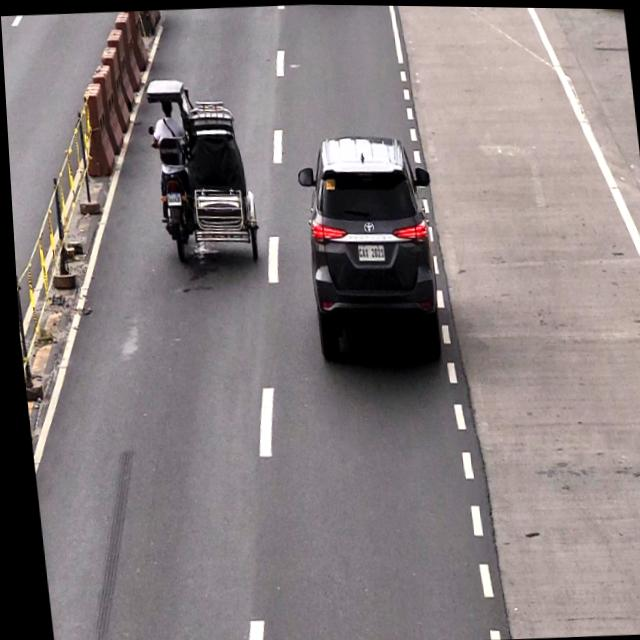Car: (299, 132, 441, 371)
License-Plate: (354, 241, 384, 264), (162, 189, 181, 208)
Tricycle: (138, 74, 262, 266)
